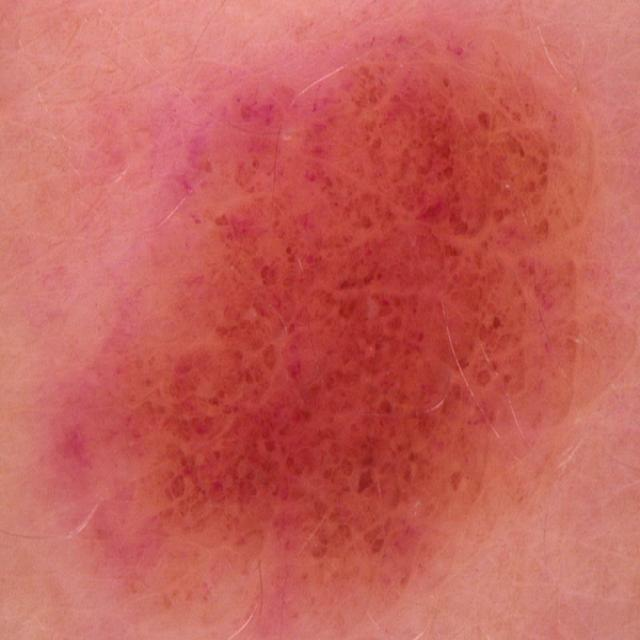NV: (107, 31, 639, 626)
